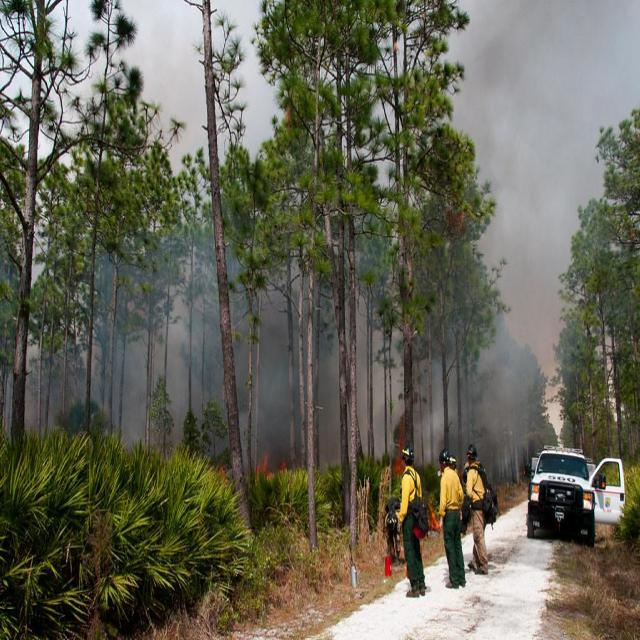Fire: (252, 453, 270, 476)
